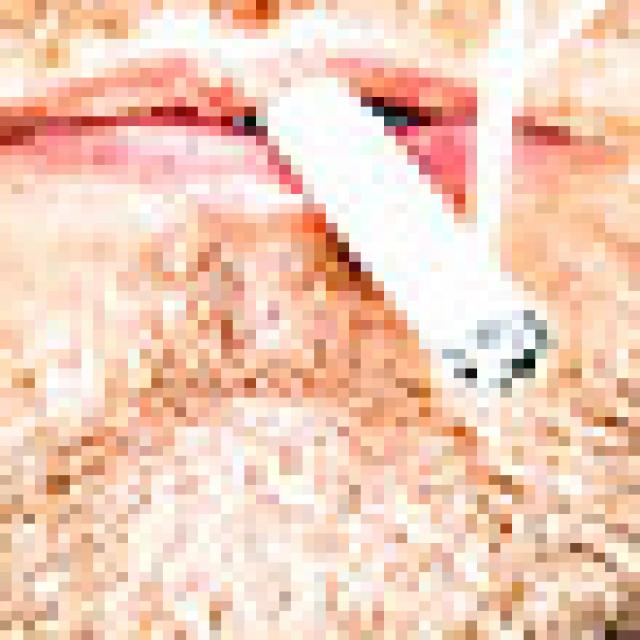smoking: (269, 79, 549, 391)
